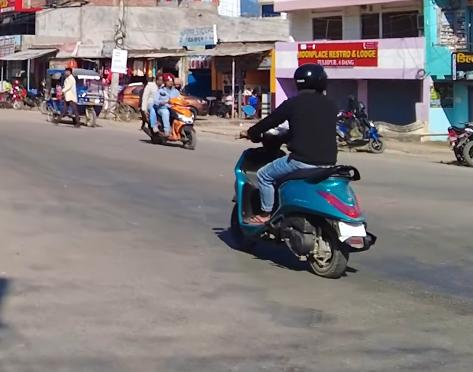e-rickshaw: (41, 68, 104, 127)
scooter: (233, 114, 380, 284), (138, 89, 203, 151)
